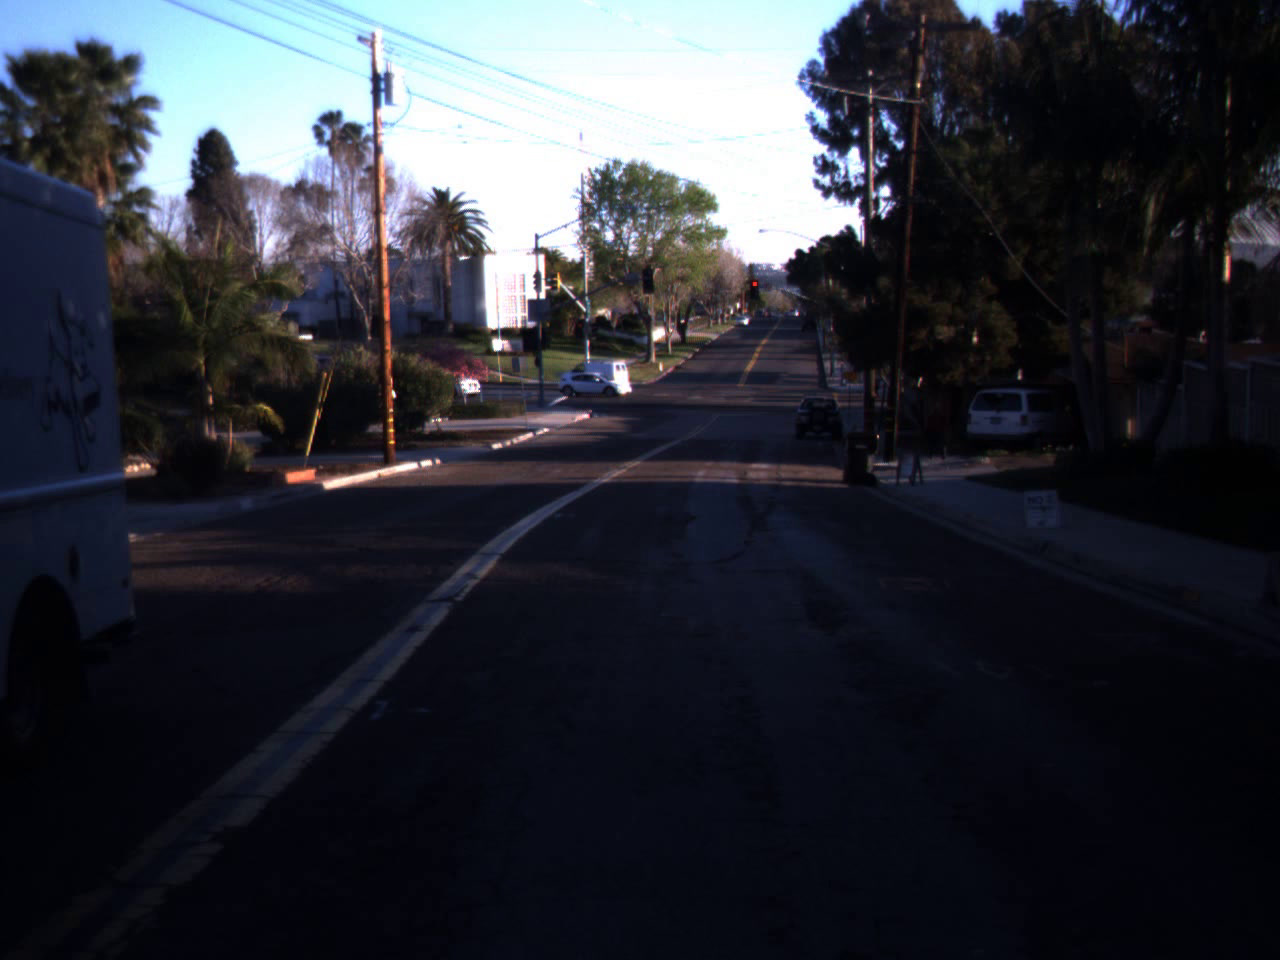stop: (748, 280, 760, 298)
